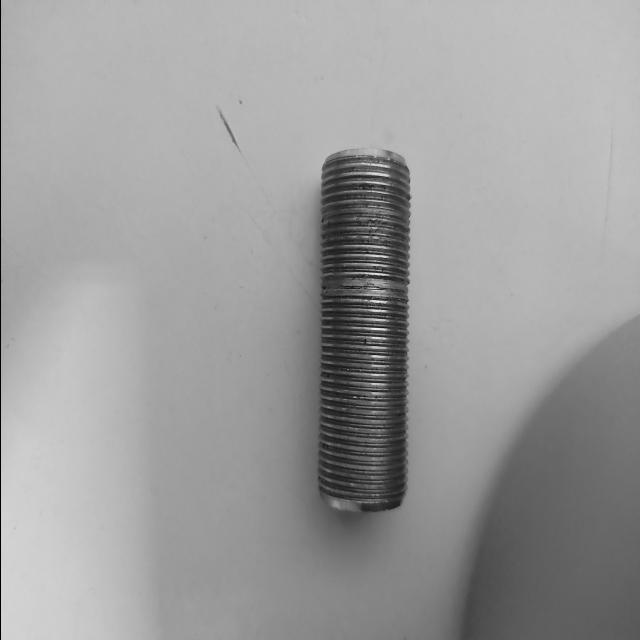Broken: (315, 148, 411, 512)
